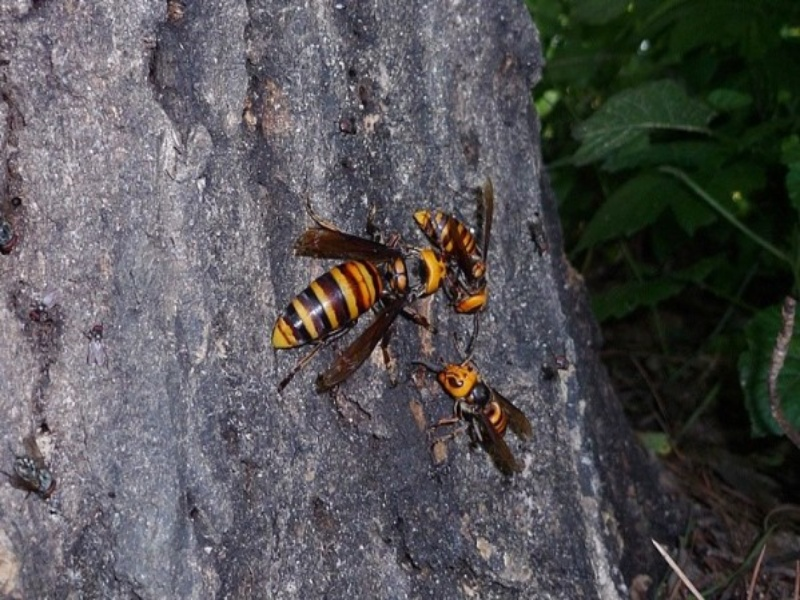asian_giant_hornet: (266, 232, 443, 363), (435, 352, 537, 477), (415, 183, 501, 316)
